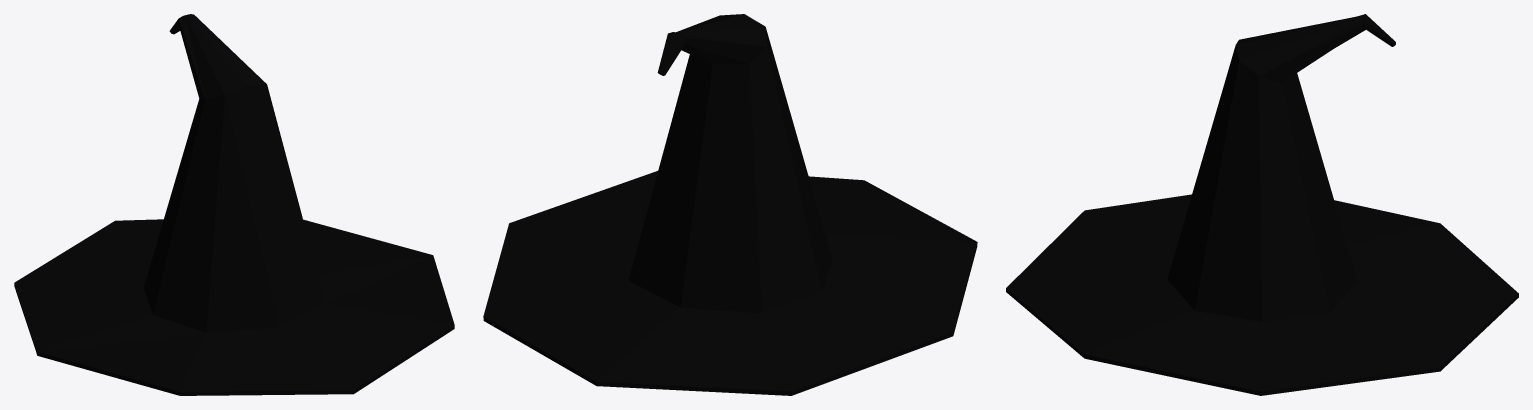
Rendered from witch_hat.dae.
The picture shows the model from 3 angles, left to right: view 1: azimuth 30°, elevation 25°; view 2: azimuth 150°, elevation 25°; view 3: azimuth 270°, elevation 25°; orthographic projection. The views are drawn at different scales.
Visible parts, largest first — view 1: Cube; view 2: Cube; view 3: Cube.
Boxes of the visible parts, x1=… form: Cube: x1=14, y1=14, x2=454, y2=395; Cube: x1=483, y1=14, x2=977, y2=395; Cube: x1=1006, y1=14, x2=1518, y2=395.
Bounding box in the file's own units: 3.96 × 4.14 × 2.53.
1 material, 1 textured.
